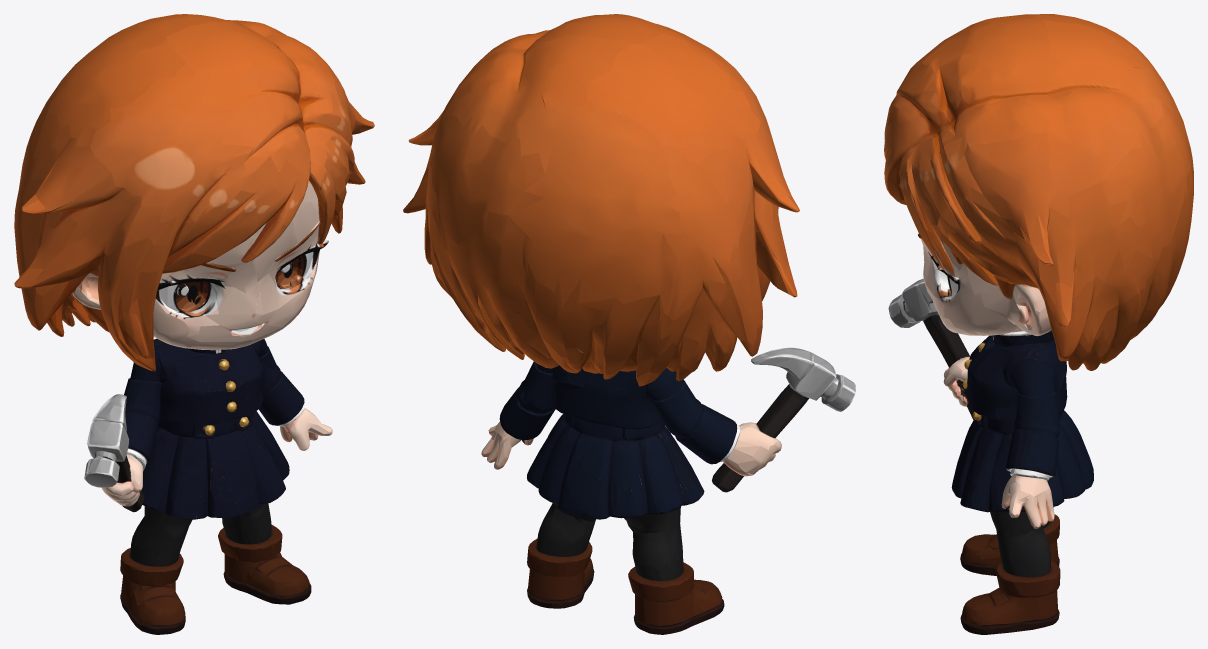
File: Nobaro.glb
The picture shows the model from 3 angles, left to right: view 1: azimuth 30°, elevation 25°; view 2: azimuth 150°, elevation 25°; view 3: azimuth 270°, elevation 25°; orthographic projection. The views are drawn at different scales.
Parts seen in each view (by area): view 1: Mesh_0; view 2: Mesh_0; view 3: Mesh_0.
Boxes of the visible parts, left/top/right/bottom form: Mesh_0: left=14, top=14, right=374, bottom=634; Mesh_0: left=403, top=14, right=855, bottom=634; Mesh_0: left=884, top=14, right=1193, bottom=634.
Bounding box in the file's own units: 1.3 × 1.9 × 0.9483.
1 material, 1 textured.
